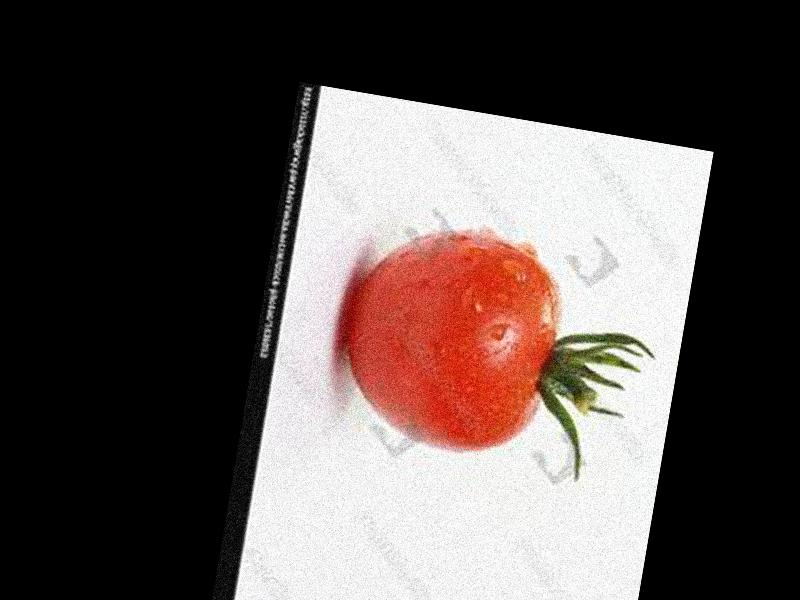Tomato: (328, 218, 569, 465)
